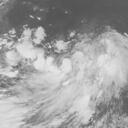cyclone: (22, 33, 127, 118)
